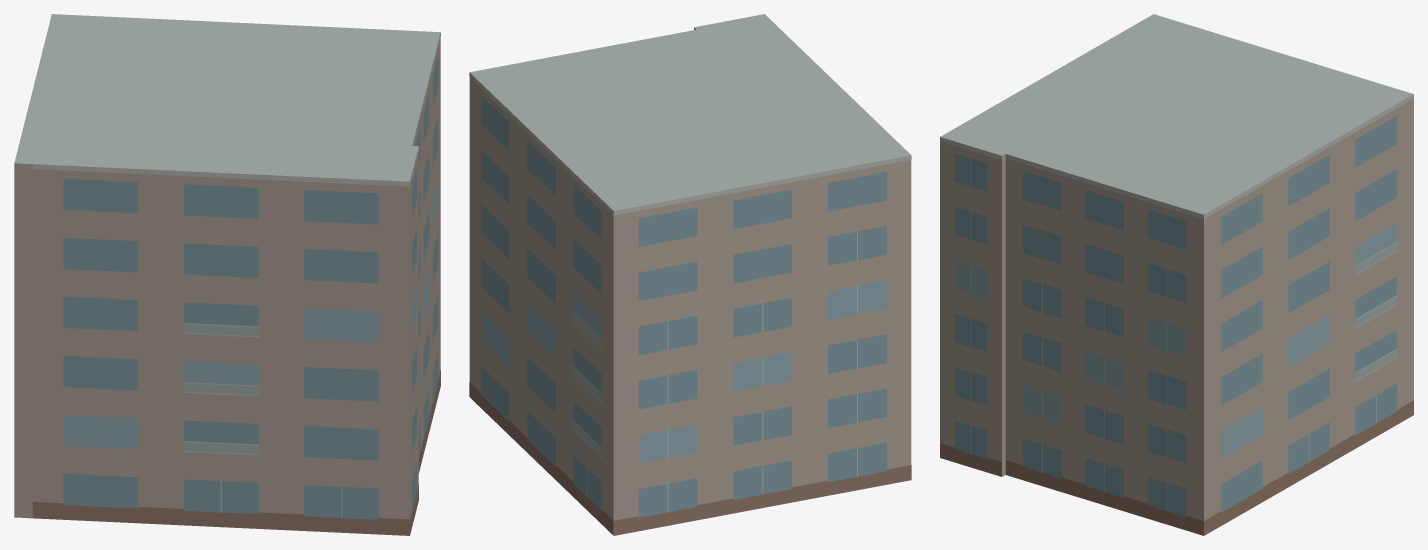
The model's file is survey-upis-32652640.glb.
3 views of the same model, side by side, from view 1: azimuth 30°, elevation 25°; view 2: azimuth 150°, elevation 25°; view 3: azimuth 270°, elevation 25° (orthographic). The views are drawn at different scales.
Visible parts, largest first — view 1: survey-upis-32652640.tmp; view 2: survey-upis-32652640.tmp; view 3: survey-upis-32652640.tmp.
Part boxes in pixels (x1,y1,x2,y2): survey-upis-32652640.tmp: (14, 14, 440, 535); survey-upis-32652640.tmp: (469, 14, 911, 535); survey-upis-32652640.tmp: (940, 14, 1413, 535).
Bounding box in the file's own units: 23.3 × 17.36 × 23.23.
